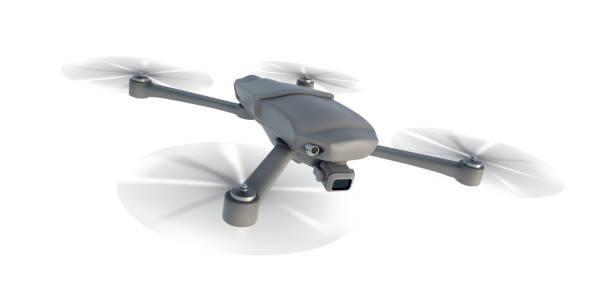Drone: (60, 52, 549, 253)
